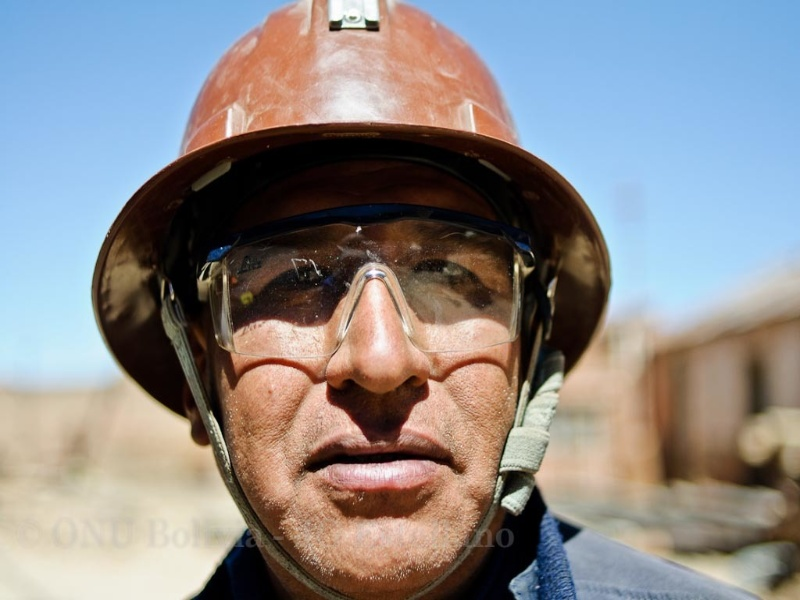Baret: (185, 1, 545, 220)
Gozluk: (197, 203, 538, 364)
